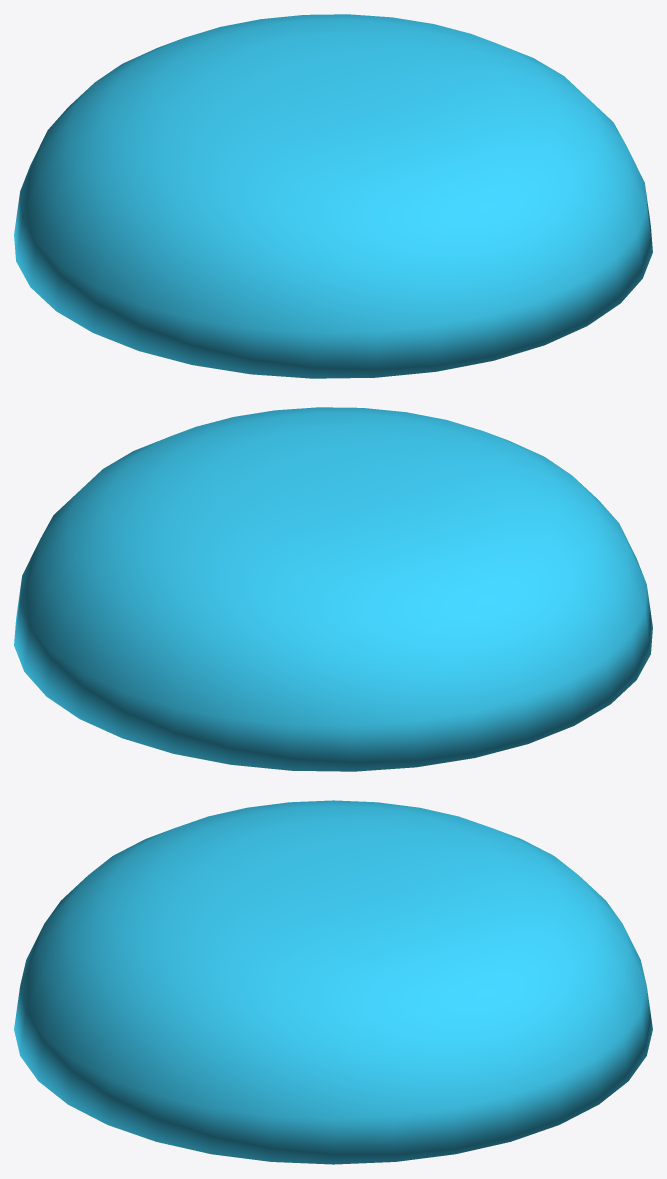
Rendered from cabochon.glb.
3 renders of one model, top to bottom at view 1: azimuth 30°, elevation 25°; view 2: azimuth 150°, elevation 25°; view 3: azimuth 270°, elevation 25°, orthographic.
Visible parts, largest first — view 1: Object_20; view 2: Object_20; view 3: Object_20.
Boxes of the visible parts, left/top/right/bottom form: Object_20: left=14, top=14, right=652, bottom=378; Object_20: left=14, top=407, right=652, bottom=771; Object_20: left=14, top=800, right=652, bottom=1164.
Bounding box in the file's own units: 2 × 0.5566 × 2.
